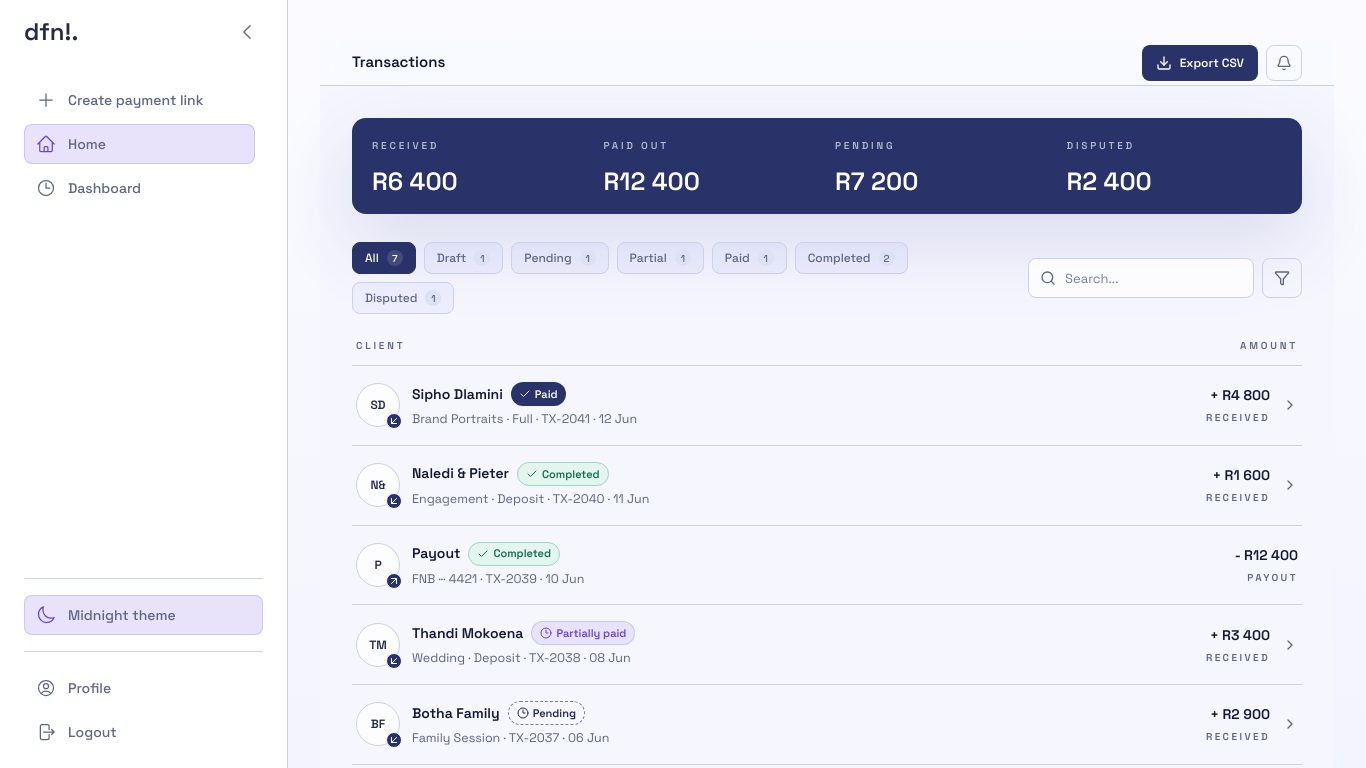
Test case: TransactionsPage theming › uses theme-aware surfaces in the payment-intent detail view
This screenshot has width=1366, height=768.
What coordinates should you click on to do the following:
click the button "Sipho Dlamini"
I would click on:
 (378, 405)
Its box is [352, 366, 1302, 446].
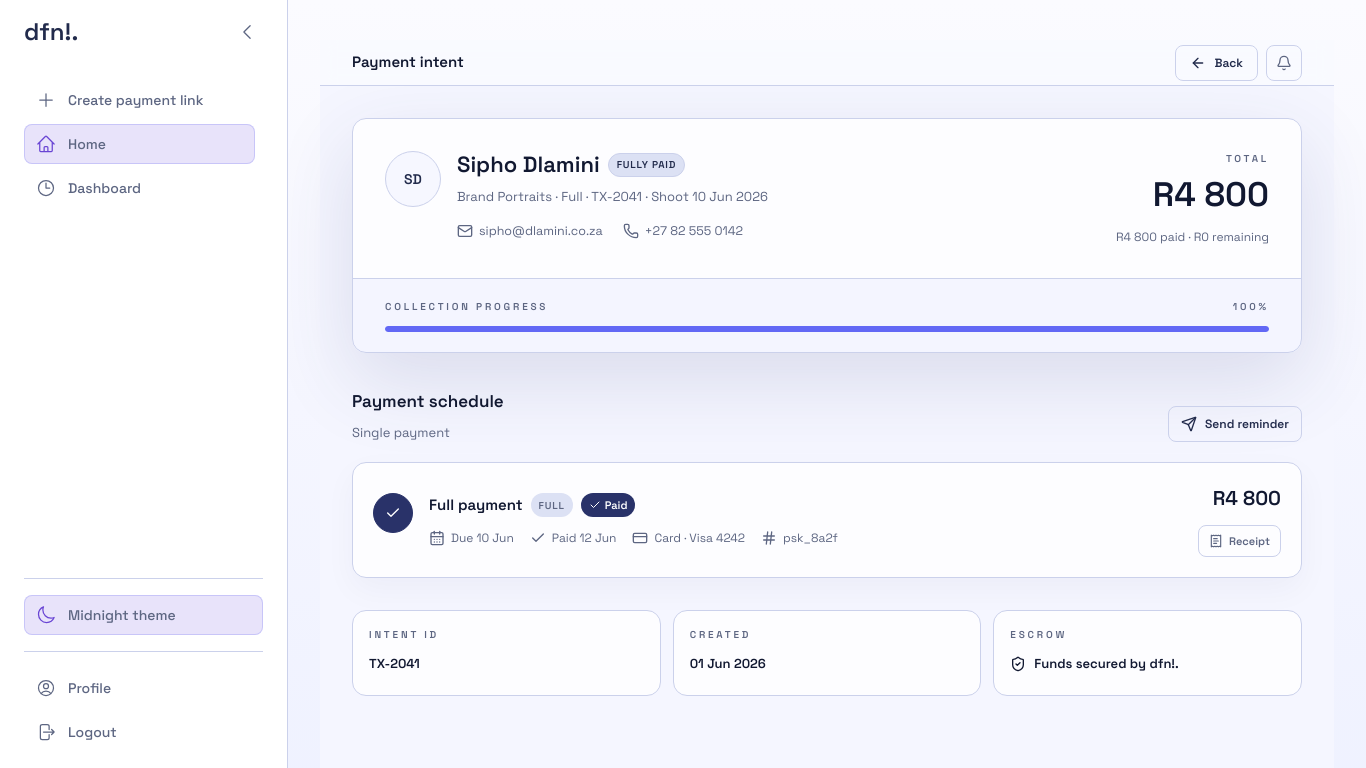
expect the heading "Payment intent" is shown: met, box [352, 51, 464, 74]
expect the button "Back" is shown: met, box [1176, 44, 1258, 80]
